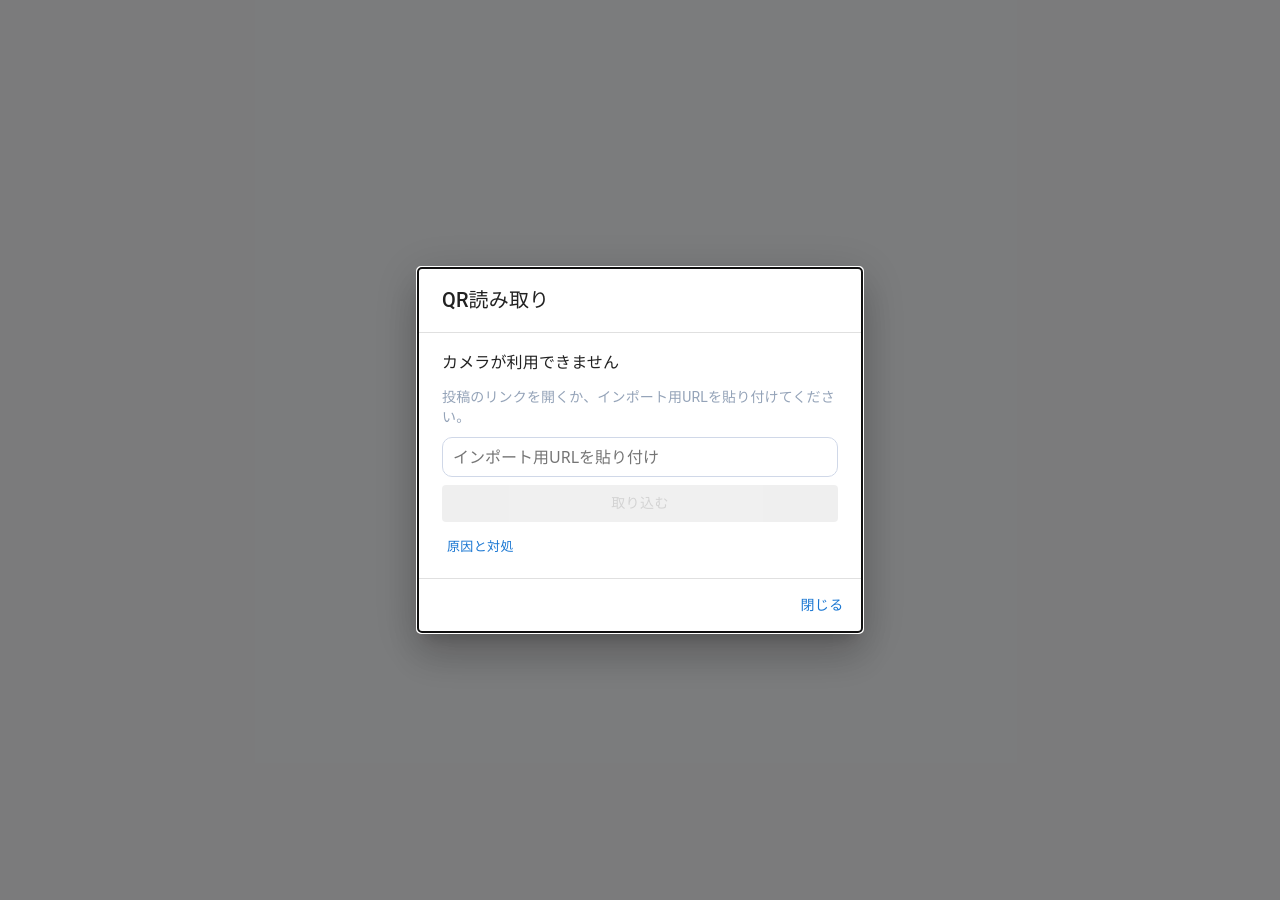
Test: ImportQrScannerDialog › shows URL fallback and help accordion when camera startup fails
The image size is (1280, 900).
Expected: the heading "カメラが利用できません" is shown, [442,353,619,372]
Expected: the text "投稿のリンクを開くか、インポート用URLを貼り付けてください。" is shown, [442,387,838,427]
Click the button "原因と対処" at point(480, 547), box [442,532,519,562]
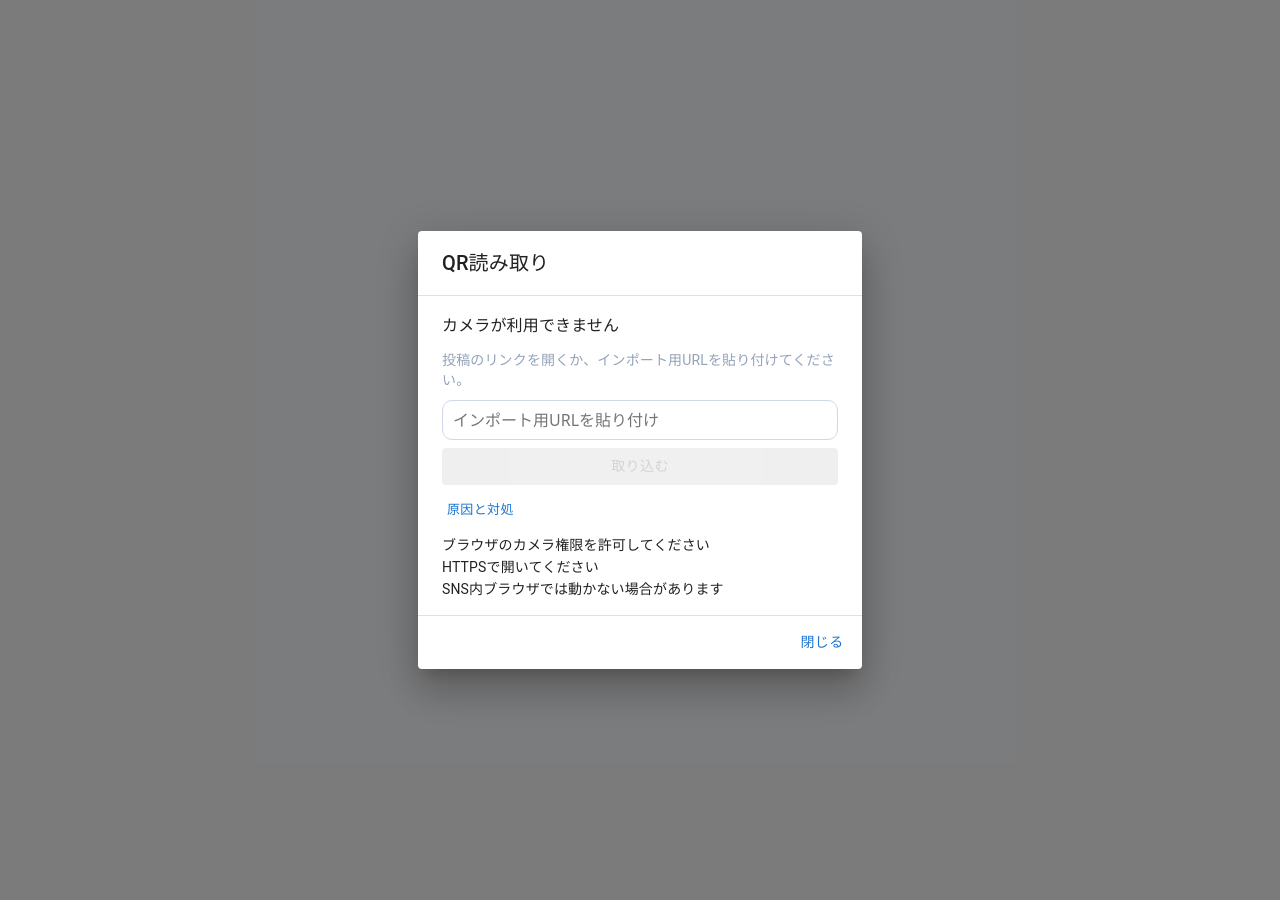
Expected: the text "ブラウザのカメラ権限を許可してください" is shown, [442,537,710,553]
Expected: the text "HTTPSで開いてください" is shown, [442,559,599,575]
Expected: the text "SNS内ブラウザでは動かない場合があります" is shown, [442,581,724,597]
